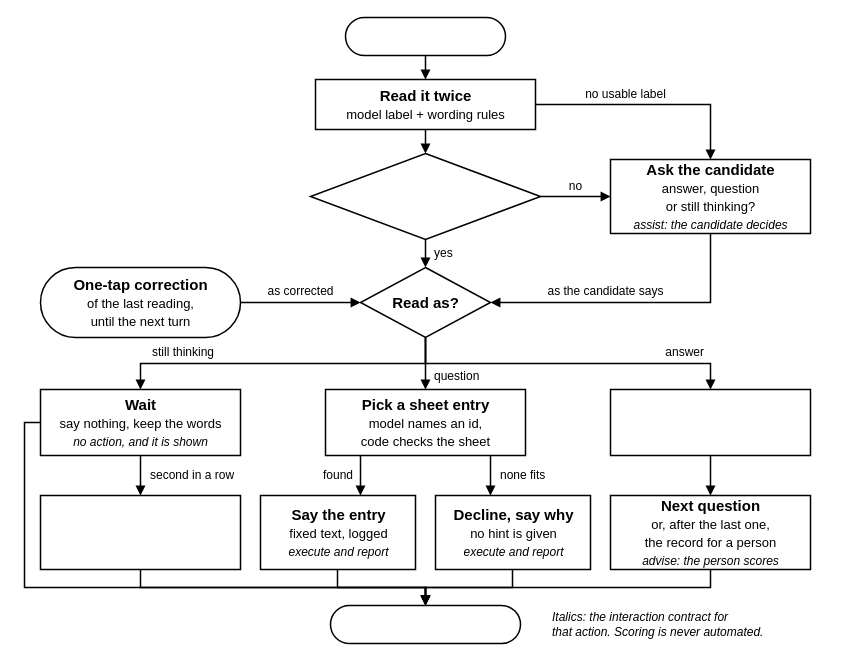
Some shapes in this 848 by 662 pixel diagram are drawn without their labels. The centre of each missing label's shape, as x and y in pixels:
"Ask what next keep thinking, repeat or move on? assist: the candidate decides" goes at (x=140, y=532).
"Candidate's turn" goes at (x=425, y=36).
"Do the two readings agree?" goes at (x=425, y=196).
"Record the answer undo until the next turn execute and report" goes at (x=710, y=422).
"Wait for the next turn" goes at (x=425, y=624).
